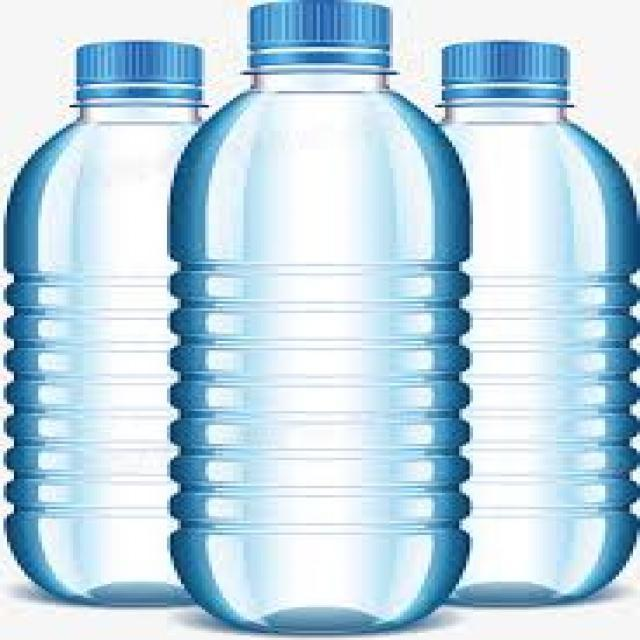Plastic: (171, 0, 477, 634), (418, 37, 638, 605), (1, 39, 210, 606)
